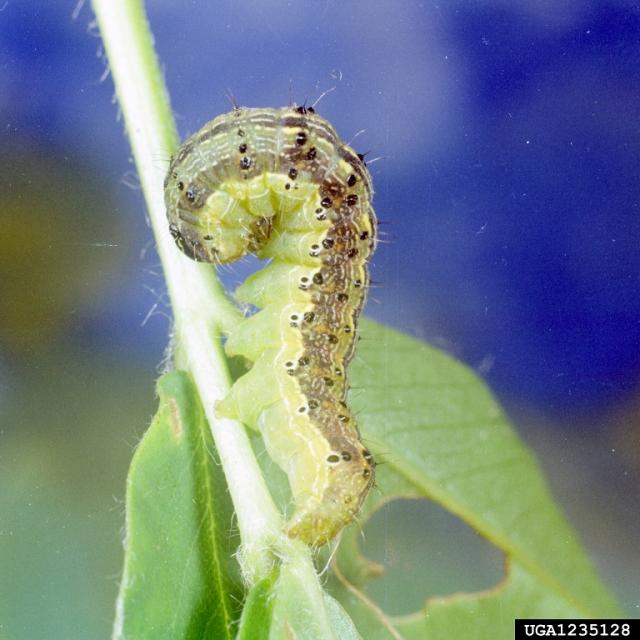Corn-earworm: (172, 93, 377, 569)
